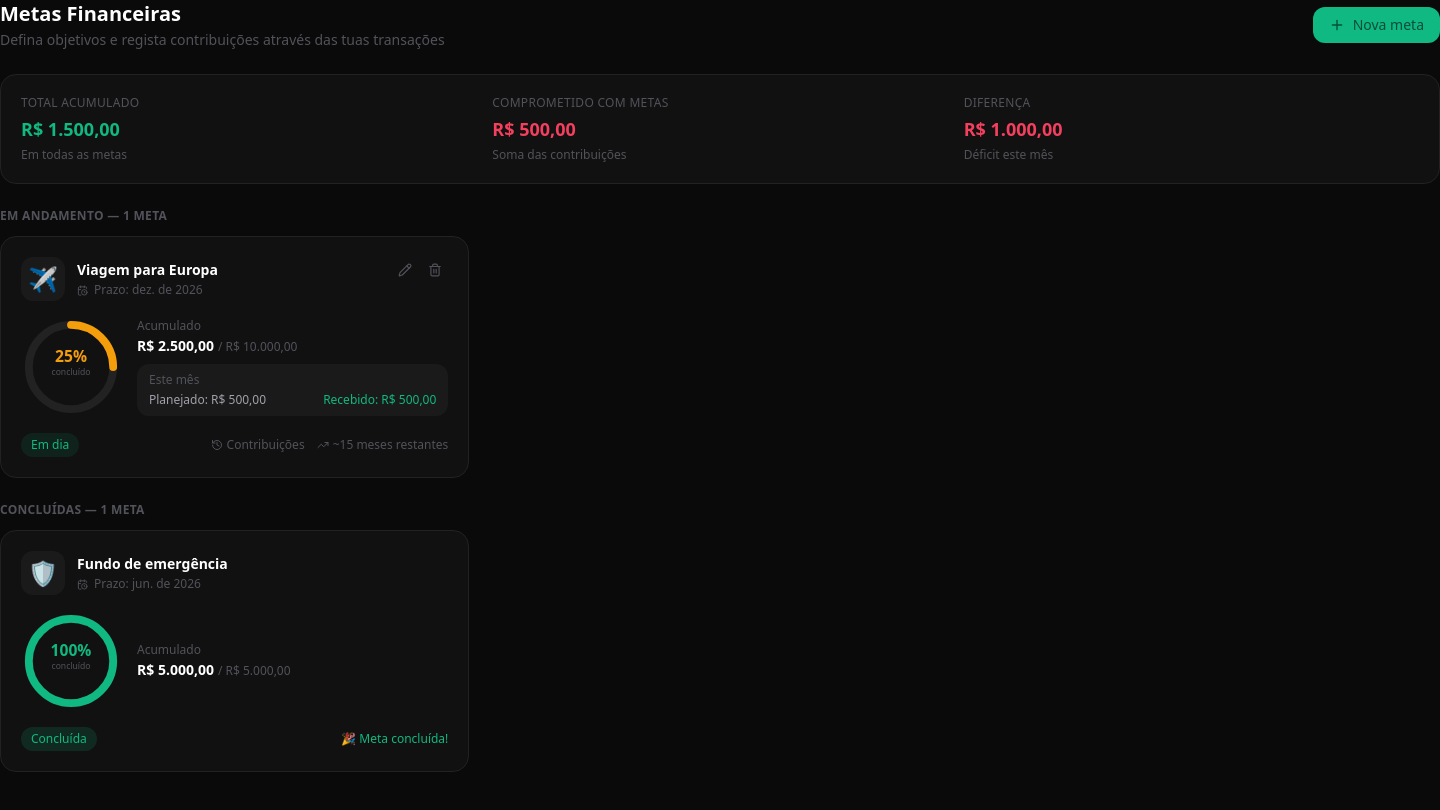
GoalsPage › deve abrir modal de contribuições ao clicar em contribuições
The width and height of the screenshot is (1440, 810).
Click the button "Contribuições" at (258, 445), box [211, 437, 305, 453]
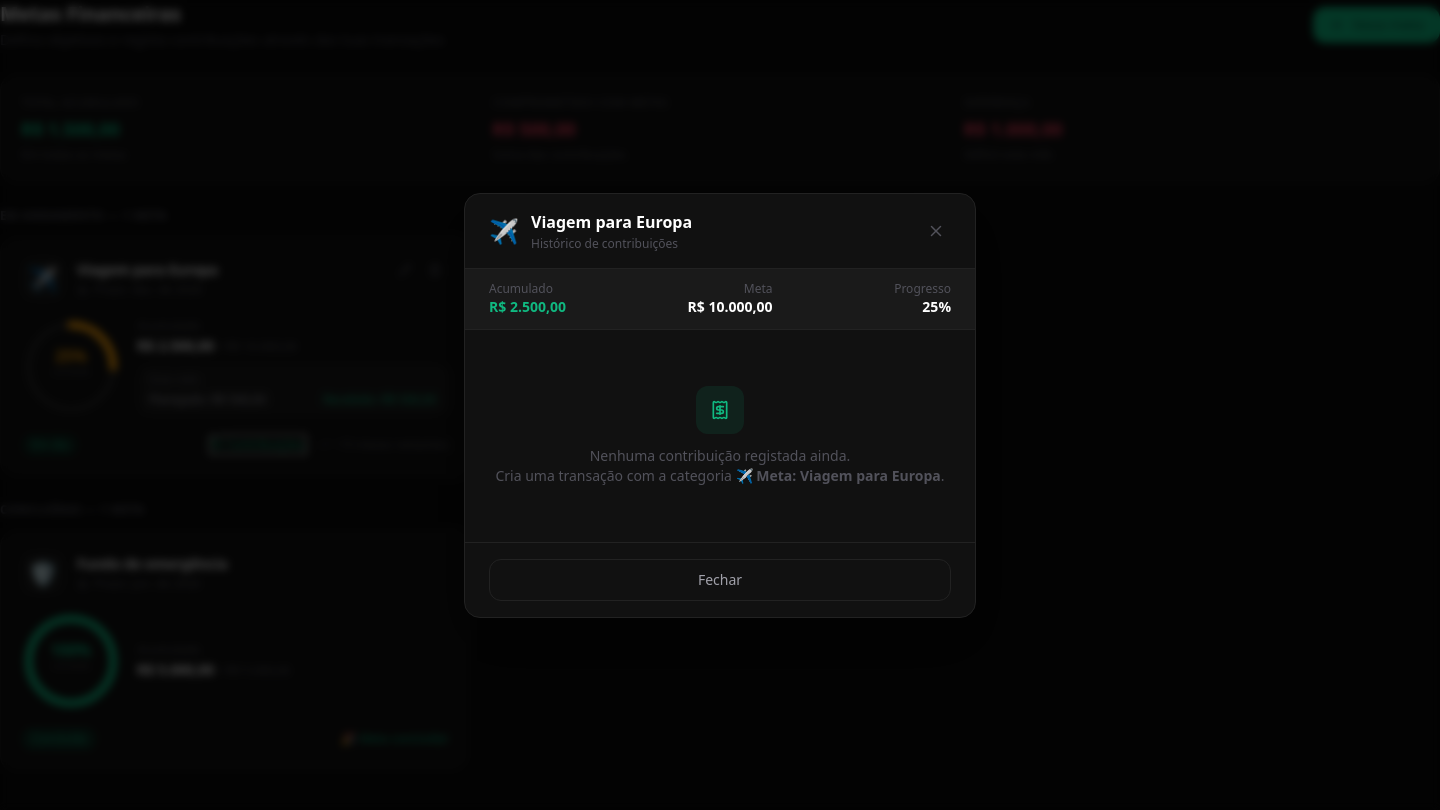
Now the text "Histórico de contribuições" is shown, box [531, 236, 692, 252]
